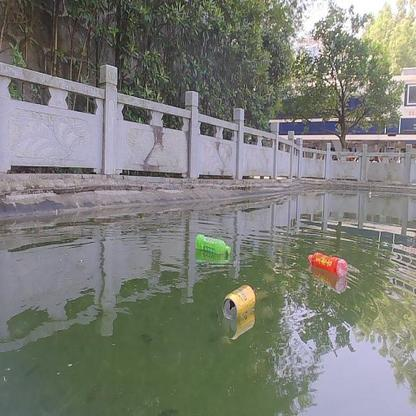can: (221, 285, 256, 320)
plastic bottle: (307, 252, 348, 275), (196, 234, 231, 255)
